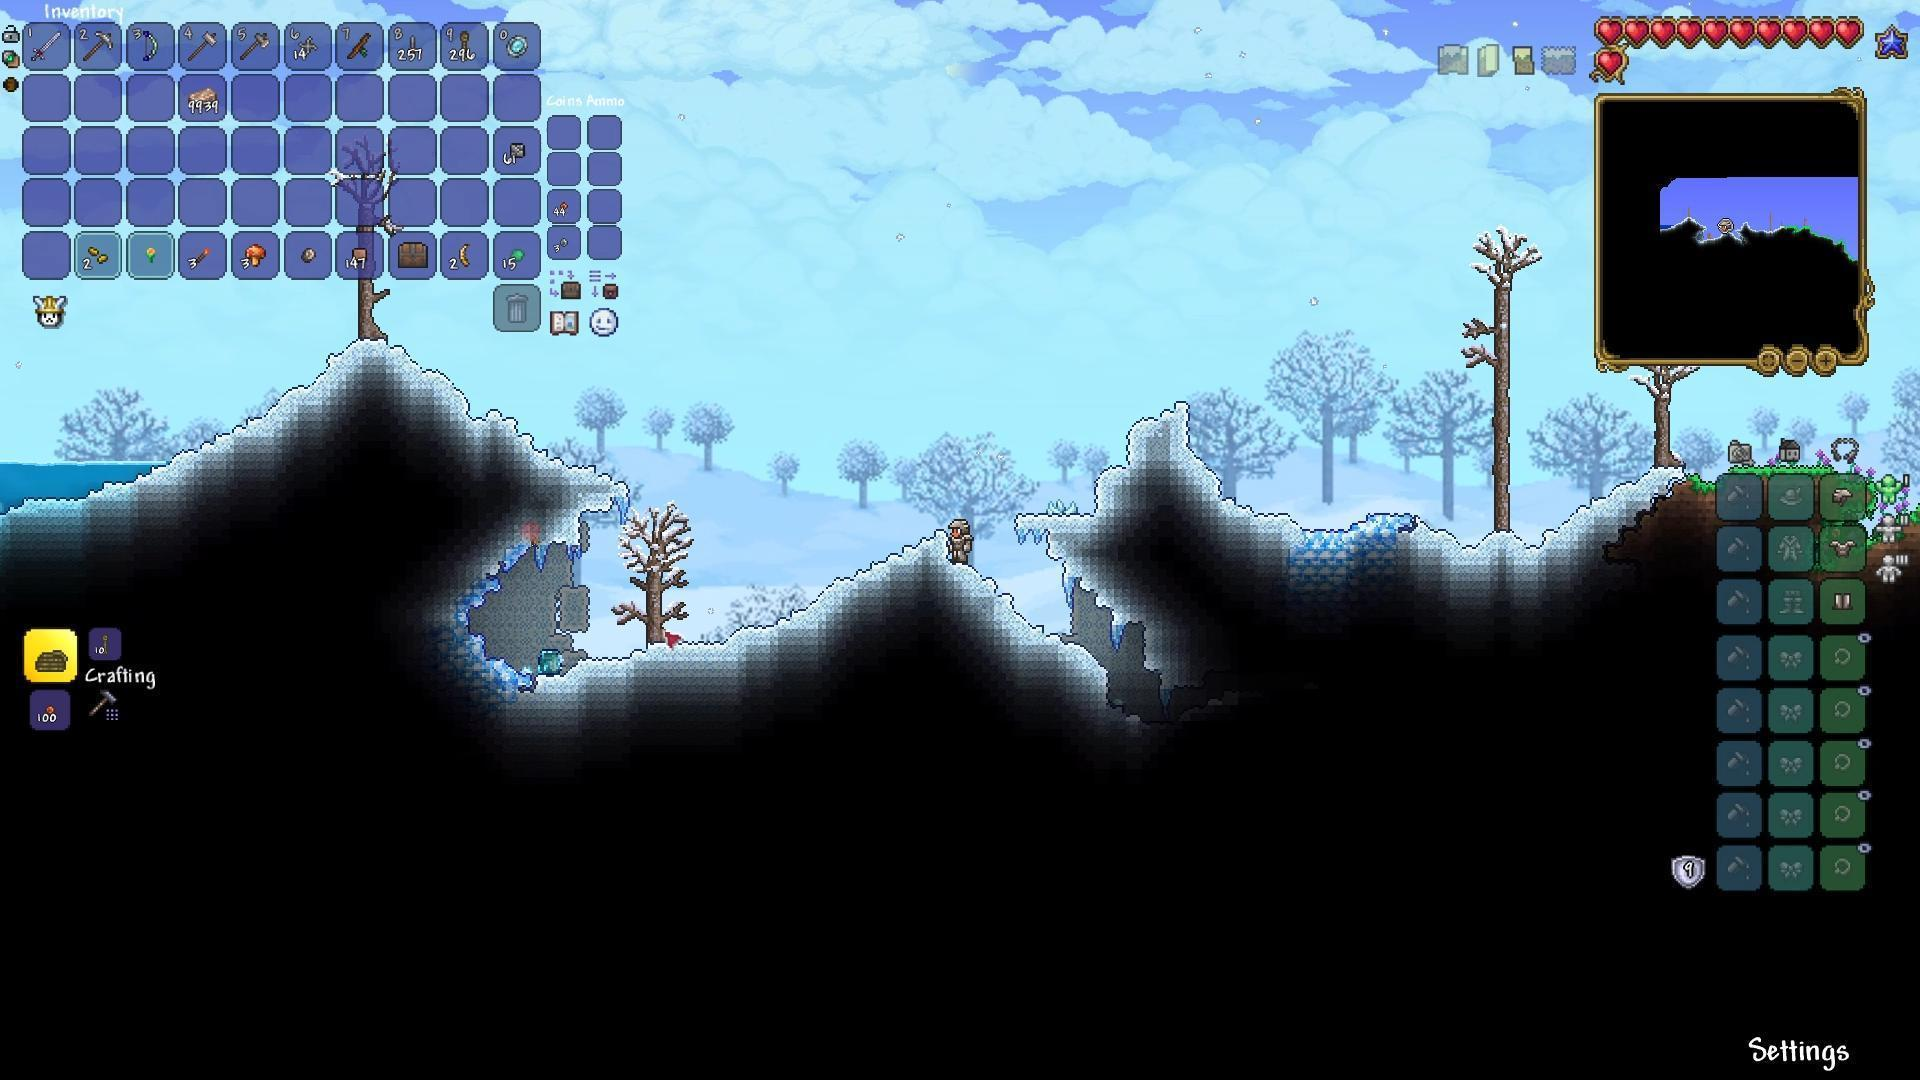breastplate: (1828, 539, 1857, 558)
helmet: (1833, 487, 1854, 506)
legs: (1829, 589, 1855, 615)
shuriken: (294, 25, 327, 70)
snow: (20, 495, 96, 524), (728, 624, 773, 662), (1038, 626, 1068, 675), (491, 538, 535, 568), (980, 574, 1004, 629), (1481, 527, 1513, 567), (596, 655, 637, 684), (582, 455, 618, 487), (451, 589, 485, 622), (504, 415, 535, 451), (425, 371, 462, 401), (1158, 419, 1192, 450), (547, 512, 582, 542), (182, 443, 223, 468), (1125, 413, 1163, 439), (1080, 647, 1112, 679), (1092, 465, 1131, 491), (688, 645, 727, 670), (1048, 506, 1080, 535), (1080, 493, 1108, 526), (831, 579, 855, 617), (297, 372, 323, 406), (531, 671, 567, 696), (1088, 585, 1116, 617), (1424, 516, 1449, 550), (1145, 640, 1174, 669), (1196, 476, 1225, 504), (1042, 531, 1069, 560), (1545, 524, 1573, 553), (806, 600, 832, 630), (567, 662, 599, 687), (146, 465, 179, 489), (1127, 439, 1156, 465), (1114, 613, 1143, 640), (919, 524, 948, 550), (1518, 537, 1543, 567), (323, 345, 352, 371), (960, 560, 981, 595), (1064, 559, 1088, 589), (1370, 508, 1395, 535), (1159, 400, 1188, 422), (855, 571, 884, 592), (469, 568, 505, 585), (393, 347, 417, 372), (247, 413, 270, 438), (1236, 498, 1262, 521), (1292, 522, 1319, 545), (1182, 446, 1205, 469), (1215, 495, 1240, 517), (444, 401, 469, 422), (272, 386, 297, 406), (1393, 506, 1415, 527), (1623, 485, 1647, 505), (1323, 526, 1348, 545), (1201, 459, 1221, 476)
